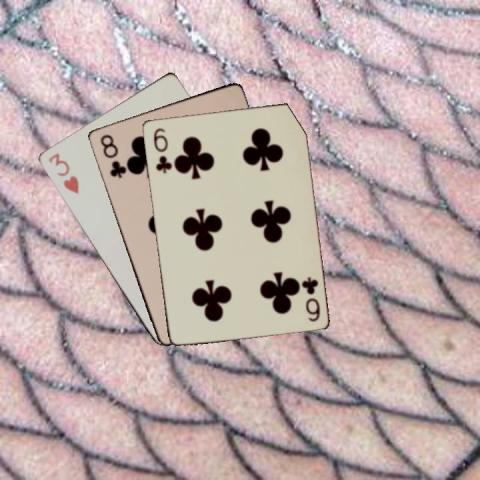3h: (45, 150, 80, 195)
6c: (298, 274, 321, 323), (150, 125, 172, 174)
8c: (97, 131, 126, 179)
